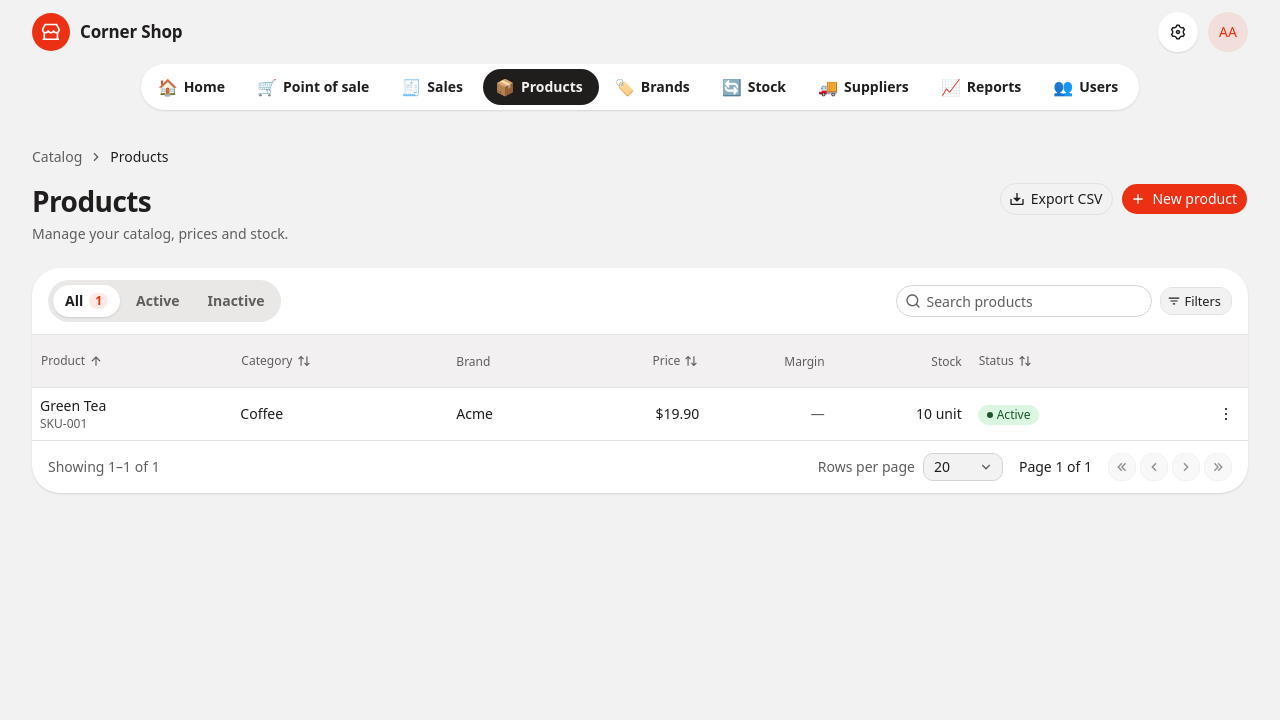
it: New product chooser › offers the existing product when the code is already in the catalogue
Click the button "New product". click: click(1185, 199)
box: [1122,183,1248,215]
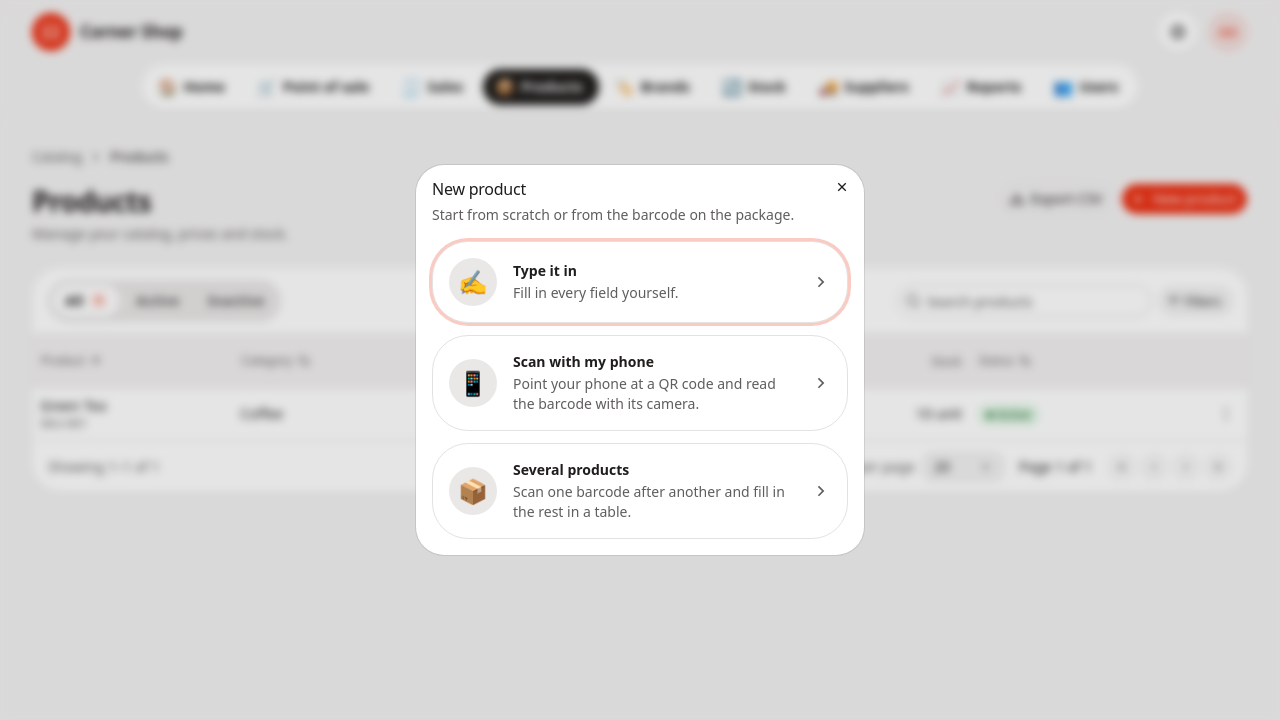
Click the button "Scan with my phone". click: click(640, 383)
box: [432,335,848,431]
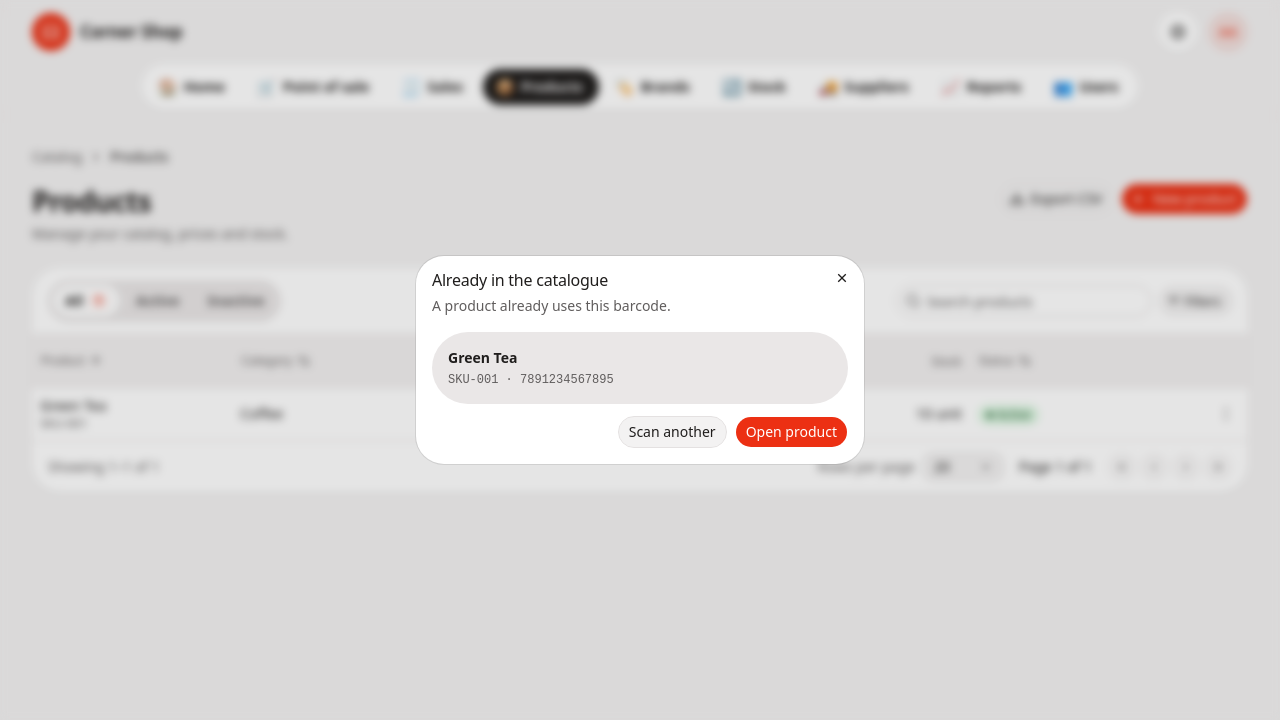
Check: the text "Green Tea" is shown, box [448,348,518,367]
